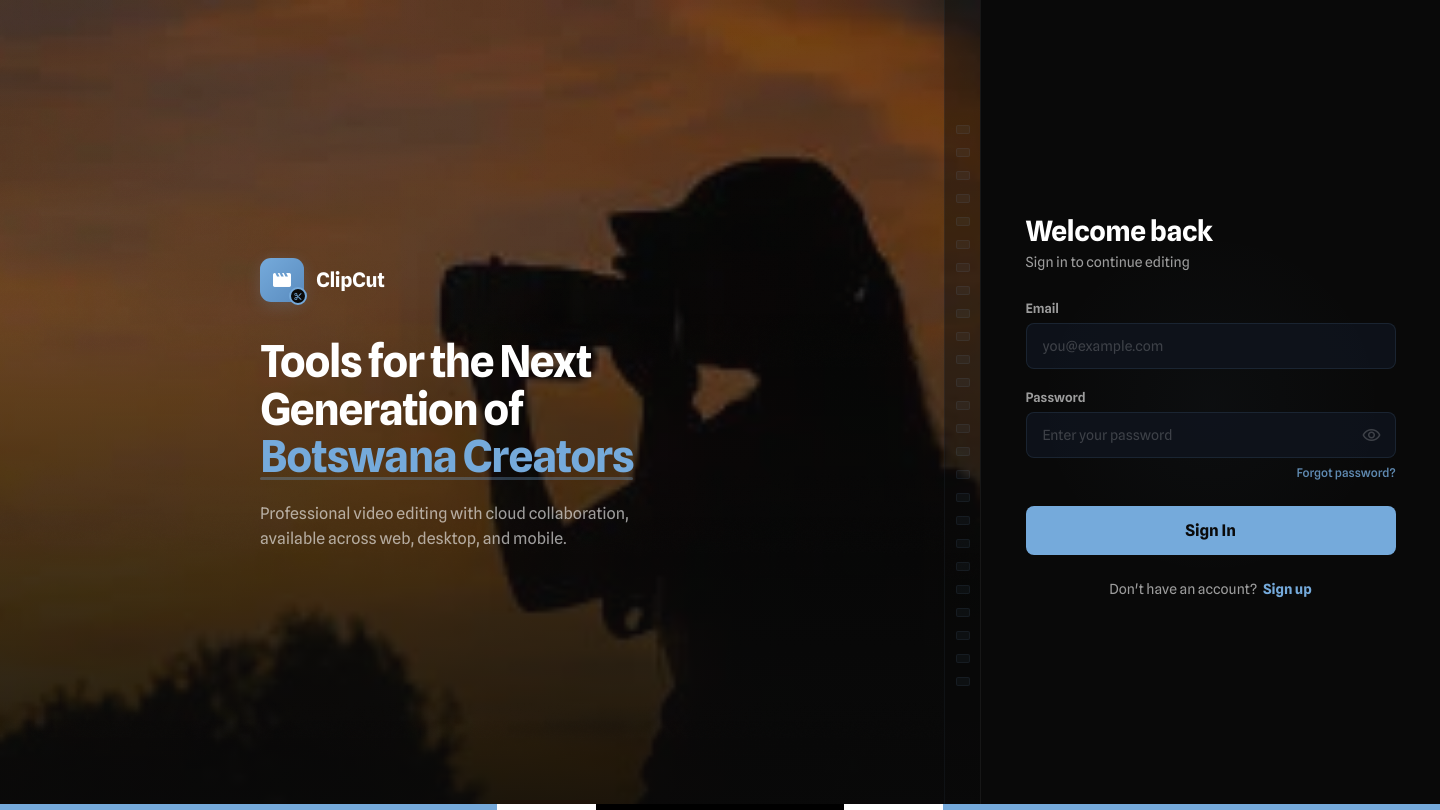
Test: DesktopLogin › shows error alert on signIn failure
Type "test@example.com" into the field labelled "Email" at [1210, 346], box [1026,322,1396,368]
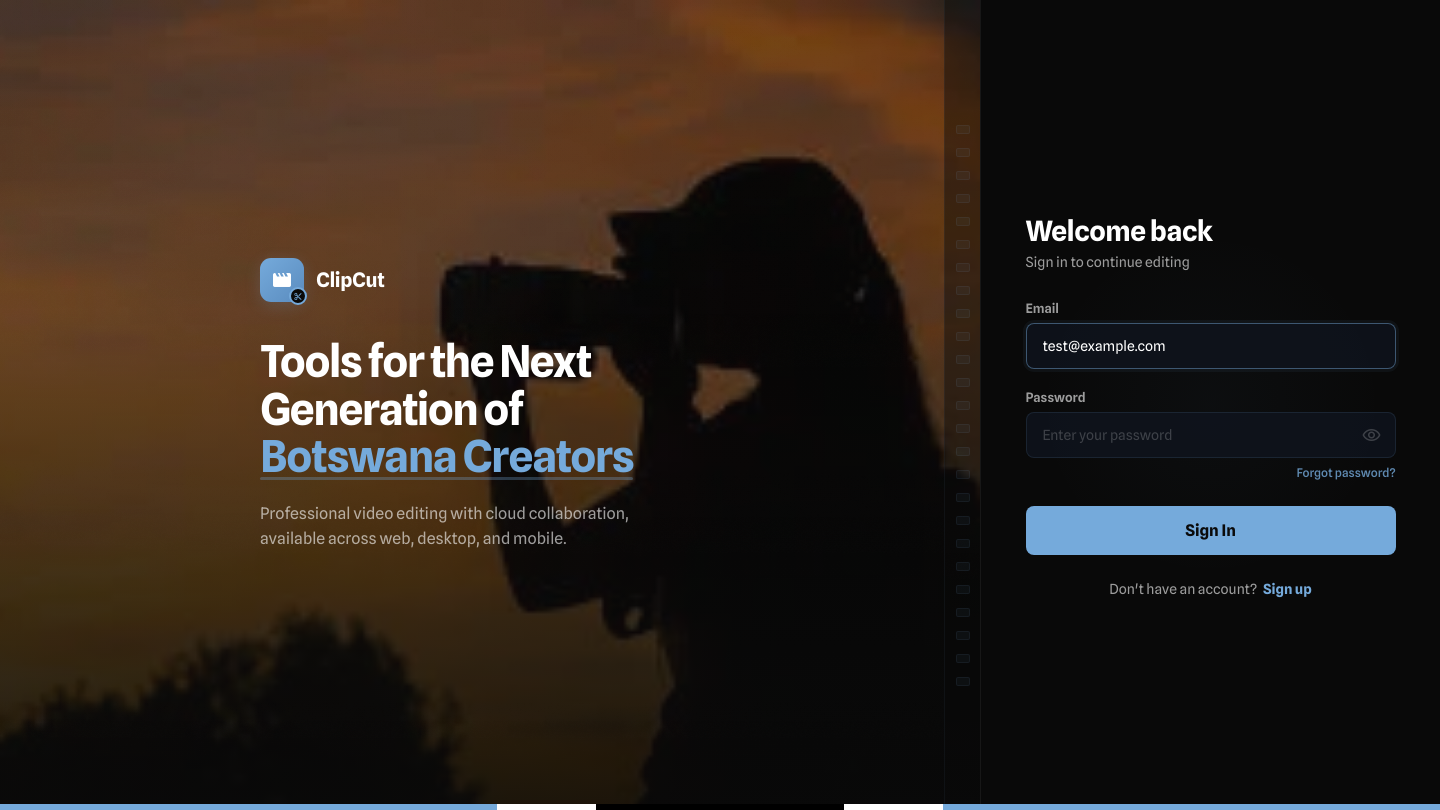
Type "StrongP@ss1" into the password field labelled "Password" at [1210, 434], box [1026,412,1396,458]
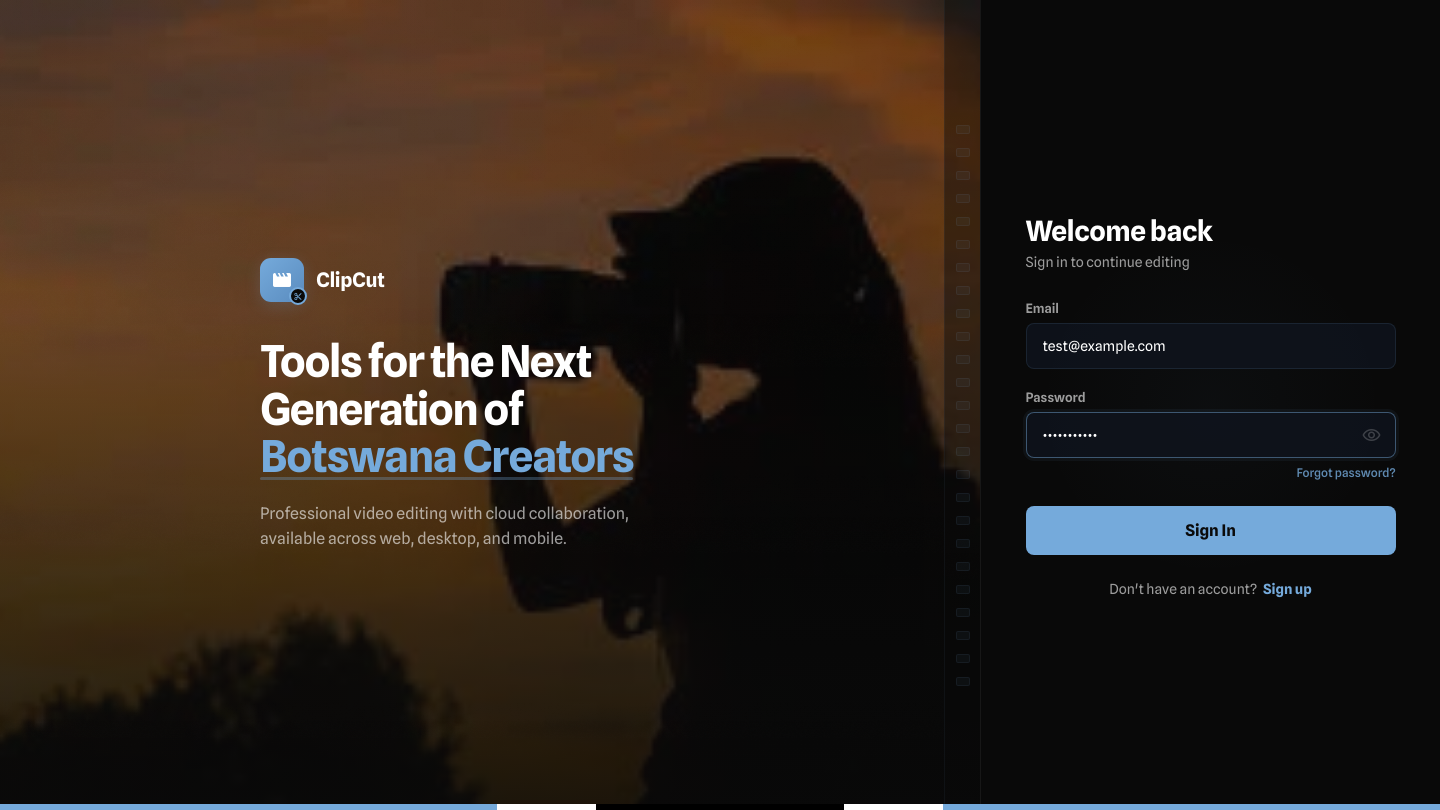
Click the button "Sign In" at [1210, 530], box [1026,506,1396,554]
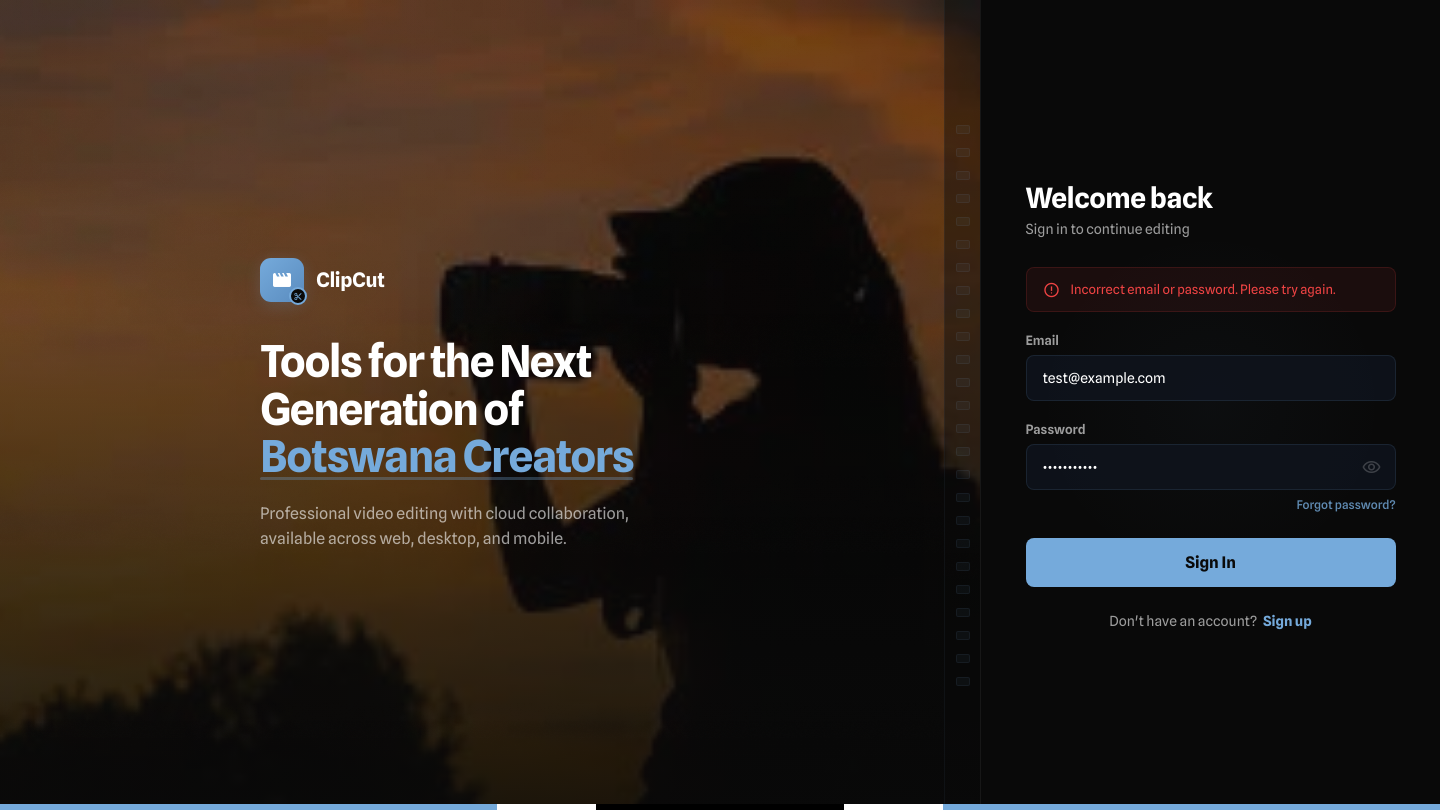
Now the message "Incorrect email or password. Please try again." is shown, box [1026,267,1396,312]
